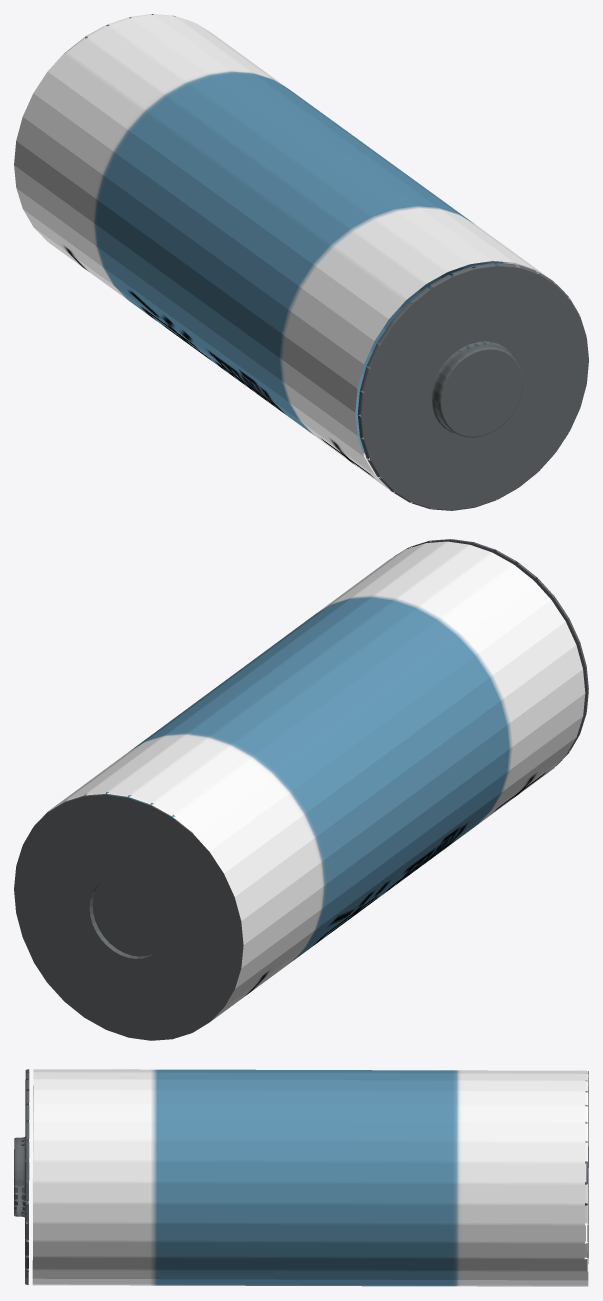
The picture shows the model from 3 angles, top to bottom: view 1: azimuth 30°, elevation 25°; view 2: azimuth 150°, elevation 25°; view 3: azimuth 270°, elevation 25°; orthographic projection. The views are drawn at different scales.
Parts seen in each view (by area): view 1: 円柱; view 2: 円柱; view 3: 円柱.
Boxes of the visible parts, x1=… form: 円柱: x1=14, y1=14, x2=588, y2=510; 円柱: x1=14, y1=539, x2=588, y2=1040; 円柱: x1=14, y1=1069, x2=588, y2=1286.
Size of the model in its own units: 25.47 by 25.68 by 67.73.
